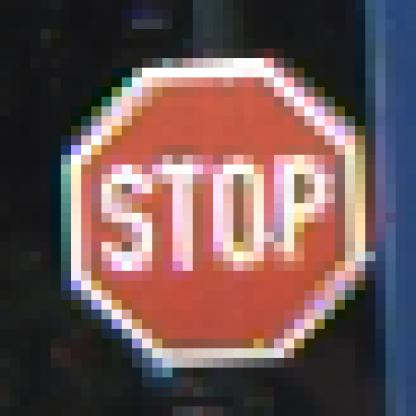stop: (52, 53, 381, 382)
